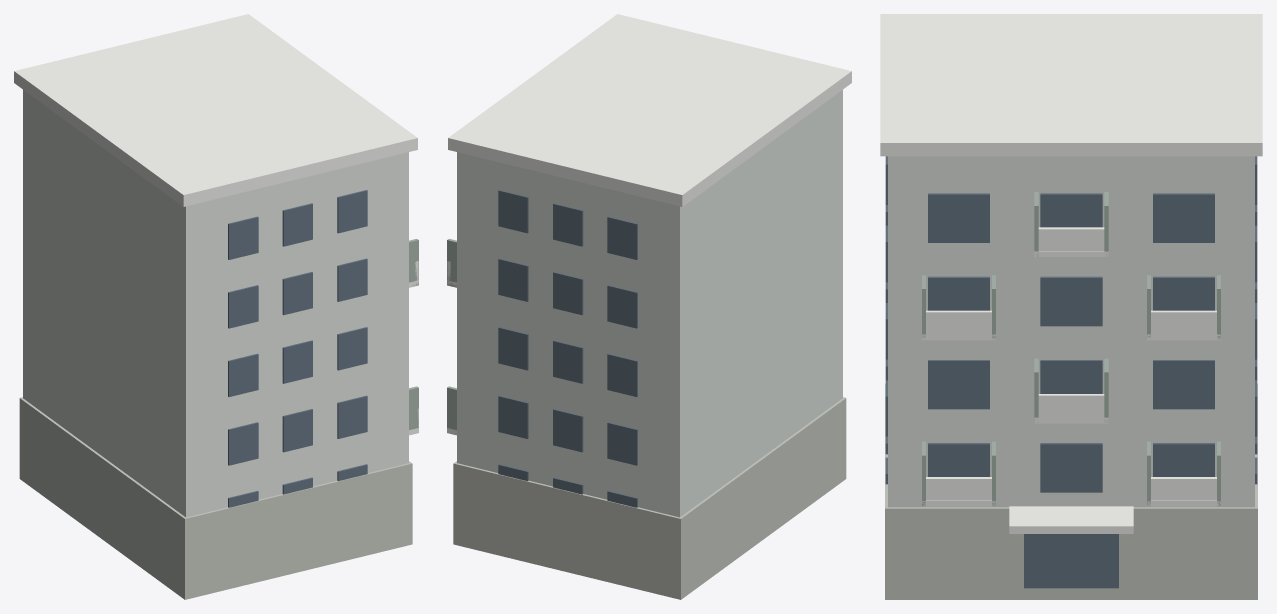
Rendered from rambla_building_6.glb.
The picture shows the model from 3 angles, left to right: view 1: azimuth 30°, elevation 25°; view 2: azimuth 150°, elevation 25°; view 3: azimuth 270°, elevation 25°; orthographic projection. The views are drawn at different scales.
Parts seen in each view (by area): view 1: RamblaBuilding_6; view 2: RamblaBuilding_6; view 3: RamblaBuilding_6.
Part boxes in pixels (<box>): RamblaBuilding_6: <box>14,14,418,599</box>; RamblaBuilding_6: <box>447,14,851,599</box>; RamblaBuilding_6: <box>880,14,1262,599</box>.
Size of the model in its own units: 11.65 by 17.1 by 12.9.
